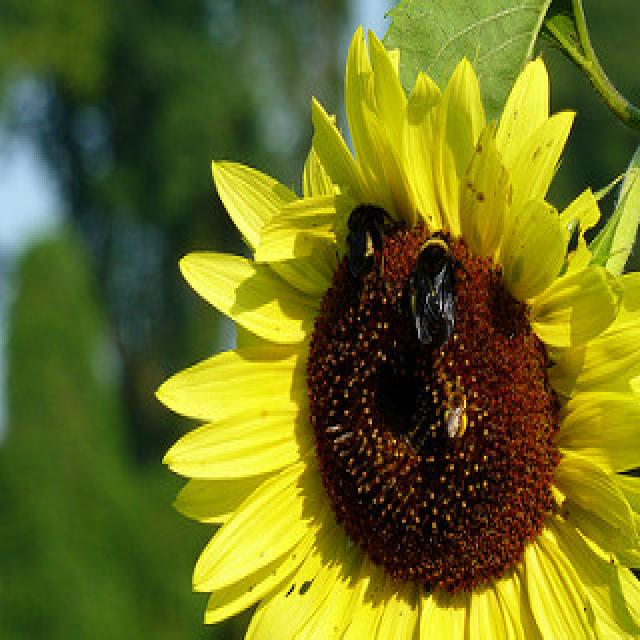sunflower: (154, 18, 640, 640)
